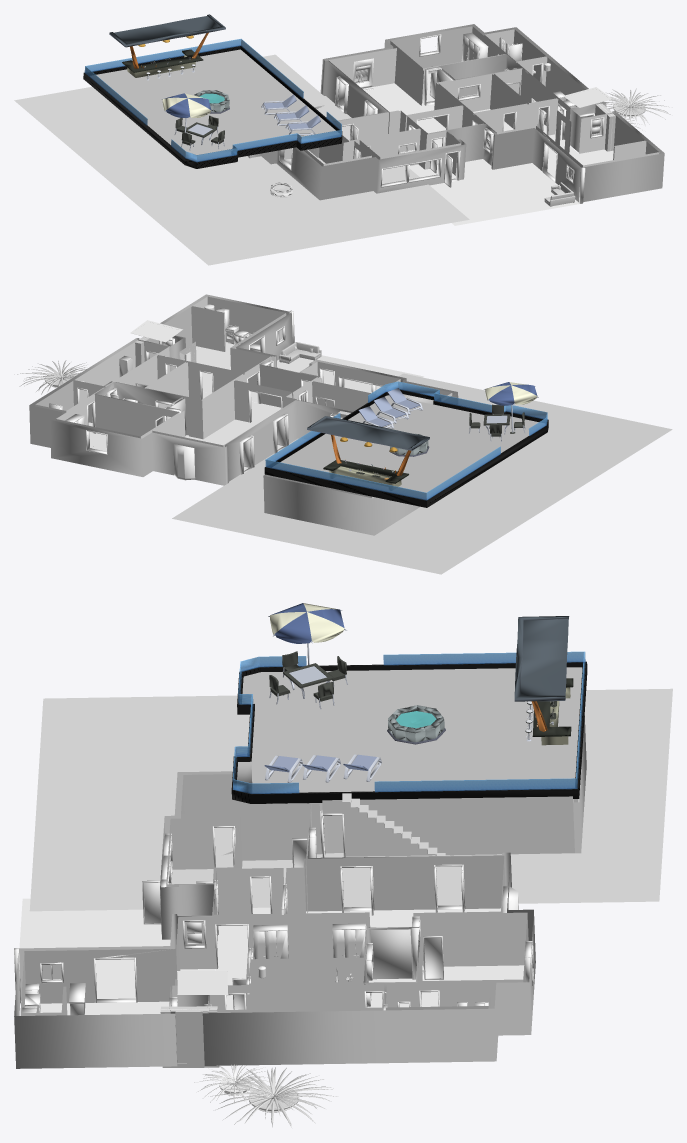
3 views of the same model, one above another, from view 1: azimuth 30°, elevation 25°; view 2: azimuth 150°, elevation 25°; view 3: azimuth 270°, elevation 25° (orthographic). The views are drawn at different scales.
Visible parts, largest first — view 1: SpecialFloor:bf05cb0a-8e65-4c5e-b1e2-84ccbbc07207.001, floor, ExternalWalls:1d50771a-7a2c-47bd-ba43-a21a209cf6d5, SpecialFloor:fb5ced88-9be9-4ba6-aea2-94a99b86bd45, Circle.134, WholeFloor:1d50771a-7a2c-47bd-ba43-a21a209cf6d5, InnerSide:07ea7c2e-6b60-4c1d-8918-d204c4f15fcf, InnerSide:81a3ae98-0cf4-49bf-9e51-376899a4b8e2, InnerSide:9d19a0ed-c836-4898-8a58-b87fbffbec2c, InnerSide:d2d62ea2-1411-4b98-ac94-df83de322611, Parasol.007, InnerSide:73e5987e-feaa-4372-a297-f0918971003c (+20 smaller); view 2: SpecialFloor:bf05cb0a-8e65-4c5e-b1e2-84ccbbc07207.001, ExternalWalls:1d50771a-7a2c-47bd-ba43-a21a209cf6d5, floor, Circle.134, WholeFloor:1d50771a-7a2c-47bd-ba43-a21a209cf6d5, InnerSide:14cf4f35-89bc-4e53-ac35-a856d84bee53, InnerSide:e0a78a03-6f58-4b95-8d45-8ee6c81f087a, SpecialFloor:fb5ced88-9be9-4ba6-aea2-94a99b86bd45, InnerSide:8d3eb7bc-dbcc-4490-a3f6-67e20dd487fd, InnerSide:f30d7f69-b0c3-4adf-ba34-e448112797bb, InnerSide:180731cb-10cf-493b-9604-24c39129547e, InnerSide:1e83384f-e6ad-430b-86be-c0594e5b94a0 (+19 smaller); view 3: SpecialFloor:bf05cb0a-8e65-4c5e-b1e2-84ccbbc07207.001, floor, ExternalWalls:1d50771a-7a2c-47bd-ba43-a21a209cf6d5, garage-wall-stairs, InnerSide:f49701f8-387f-433e-b2ae-74524d86104f, SpecialFloor:fb5ced88-9be9-4ba6-aea2-94a99b86bd45, WholeFloor:1d50771a-7a2c-47bd-ba43-a21a209cf6d5, Circle.134, InnerSide:6f2e4eb1-e663-439a-a21c-952b7c87893d, InnerSide:92ff0d8b-f08f-4925-a77f-3edb50b0ebd1, InnerSide:3149b090-fd86-4bf4-aeb5-8a649e85fd51, InnerSide:faf384ab-fcbb-4614-910c-08cad5bc4920 (+22 smaller).
Boxes of the visible parts, x1,y1,x2,y2 form: SpecialFloor:bf05cb0a-8e65-4c5e-b1e2-84ccbbc07207.001: (14, 54, 469, 265); floor: (83, 38, 342, 168); ExternalWalls:1d50771a-7a2c-47bd-ba43-a21a209cf6d5: (250, 24, 664, 202); SpecialFloor:fb5ced88-9be9-4ba6-aea2-94a99b86bd45: (430, 159, 579, 225); Circle.134: (109, 14, 225, 80); WholeFloor:1d50771a-7a2c-47bd-ba43-a21a209cf6d5: (276, 73, 613, 178); InnerSide:07ea7c2e-6b60-4c1d-8918-d204c4f15fcf: (391, 26, 472, 68); InnerSide:81a3ae98-0cf4-49bf-9e51-376899a4b8e2: (475, 99, 558, 135); InnerSide:9d19a0ed-c836-4898-8a58-b87fbffbec2c: (328, 48, 396, 86); InnerSide:d2d62ea2-1411-4b98-ac94-df83de322611: (394, 48, 423, 105); Parasol.007: (161, 93, 212, 132); InnerSide:73e5987e-feaa-4372-a297-f0918971003c: (439, 74, 492, 111); SpecialFloor:bf05cb0a-8e65-4c5e-b1e2-84ccbbc07207.001: (172, 373, 672, 574); ExternalWalls:1d50771a-7a2c-47bd-ba43-a21a209cf6d5: (29, 294, 458, 535); floor: (264, 381, 548, 507); Circle.134: (307, 416, 429, 490); WholeFloor:1d50771a-7a2c-47bd-ba43-a21a209cf6d5: (88, 342, 283, 470); InnerSide:14cf4f35-89bc-4e53-ac35-a856d84bee53: (95, 394, 179, 436); InnerSide:e0a78a03-6f58-4b95-8d45-8ee6c81f087a: (207, 296, 285, 344); SpecialFloor:fb5ced88-9be9-4ba6-aea2-94a99b86bd45: (277, 355, 423, 393); InnerSide:8d3eb7bc-dbcc-4490-a3f6-67e20dd487fd: (202, 381, 234, 438); InnerSide:f30d7f69-b0c3-4adf-ba34-e448112797bb: (191, 307, 224, 351); InnerSide:180731cb-10cf-493b-9604-24c39129547e: (259, 365, 317, 407); InnerSide:1e83384f-e6ad-430b-86be-c0594e5b94a0: (75, 340, 137, 401); SpecialFloor:bf05cb0a-8e65-4c5e-b1e2-84ccbbc07207.001: (29, 688, 672, 911); floor: (231, 651, 587, 803); ExternalWalls:1d50771a-7a2c-47bd-ba43-a21a209cf6d5: (14, 716, 586, 1068); garage-wall-stairs: (322, 796, 574, 856); InnerSide:f49701f8-387f-433e-b2ae-74524d86104f: (304, 855, 504, 911); SpecialFloor:fb5ced88-9be9-4ba6-aea2-94a99b86bd45: (19, 898, 170, 1002); WholeFloor:1d50771a-7a2c-47bd-ba43-a21a209cf6d5: (40, 851, 524, 1015); Circle.134: (514, 616, 573, 745); InnerSide:6f2e4eb1-e663-439a-a21c-952b7c87893d: (24, 948, 177, 1003); InnerSide:92ff0d8b-f08f-4925-a77f-3edb50b0ebd1: (421, 912, 527, 966); InnerSide:3149b090-fd86-4bf4-aeb5-8a649e85fd51: (211, 983, 383, 1009); InnerSide:faf384ab-fcbb-4614-910c-08cad5bc4920: (240, 808, 309, 860).
Size of what is drawn, in the model's own units: 50.9 by 10.55 by 35.43.
